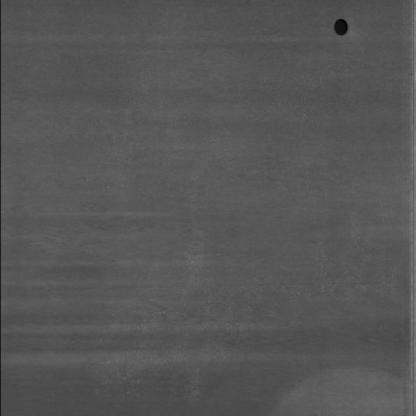punching_hole: (328, 16, 356, 40)
